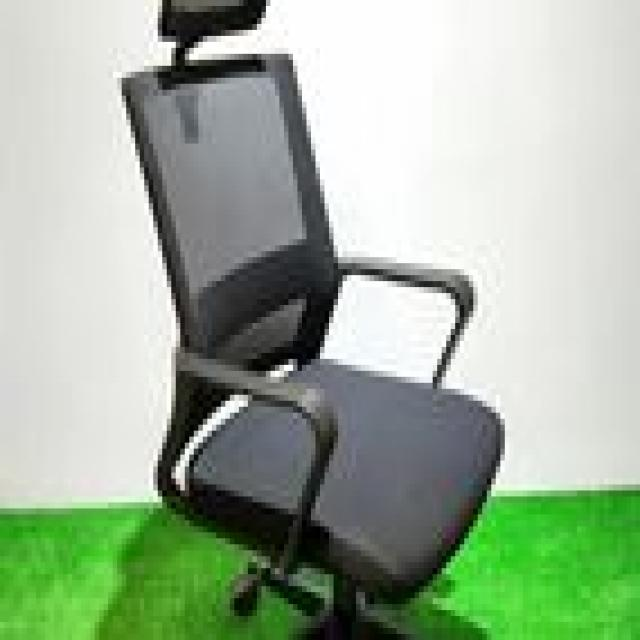others: (90, 6, 527, 640)
